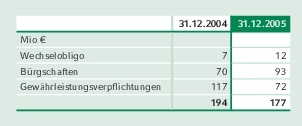table: (0, 0, 302, 126)
